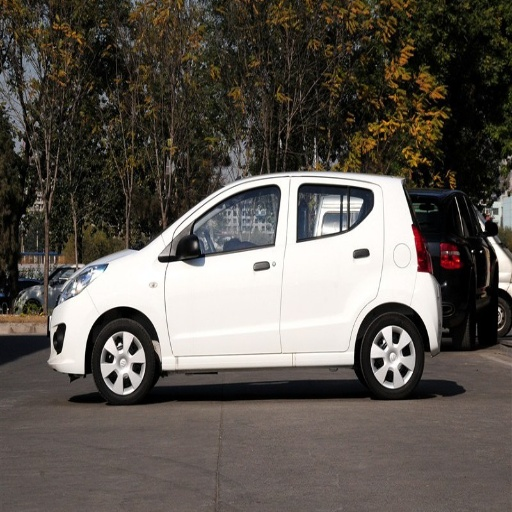back_left_door: (282, 181, 381, 355)
front_left_door: (165, 182, 290, 357)
